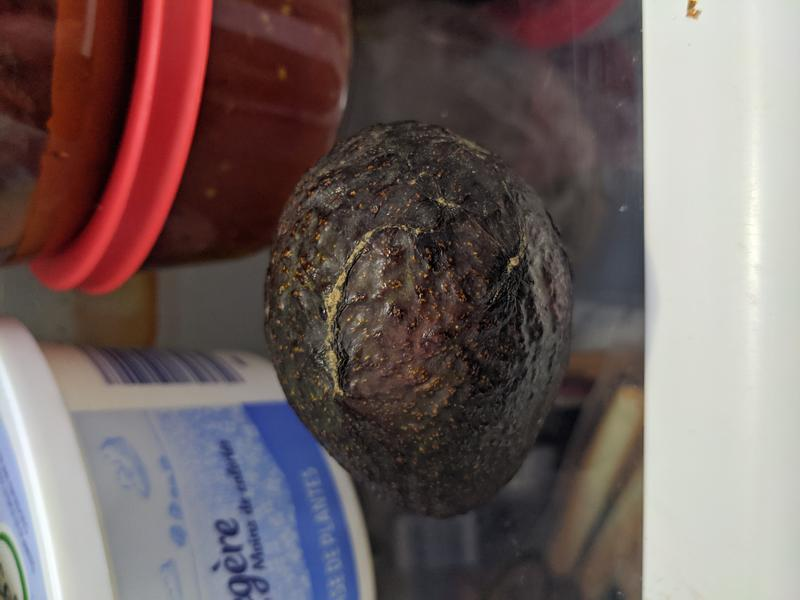avocado: (261, 122, 575, 519)
